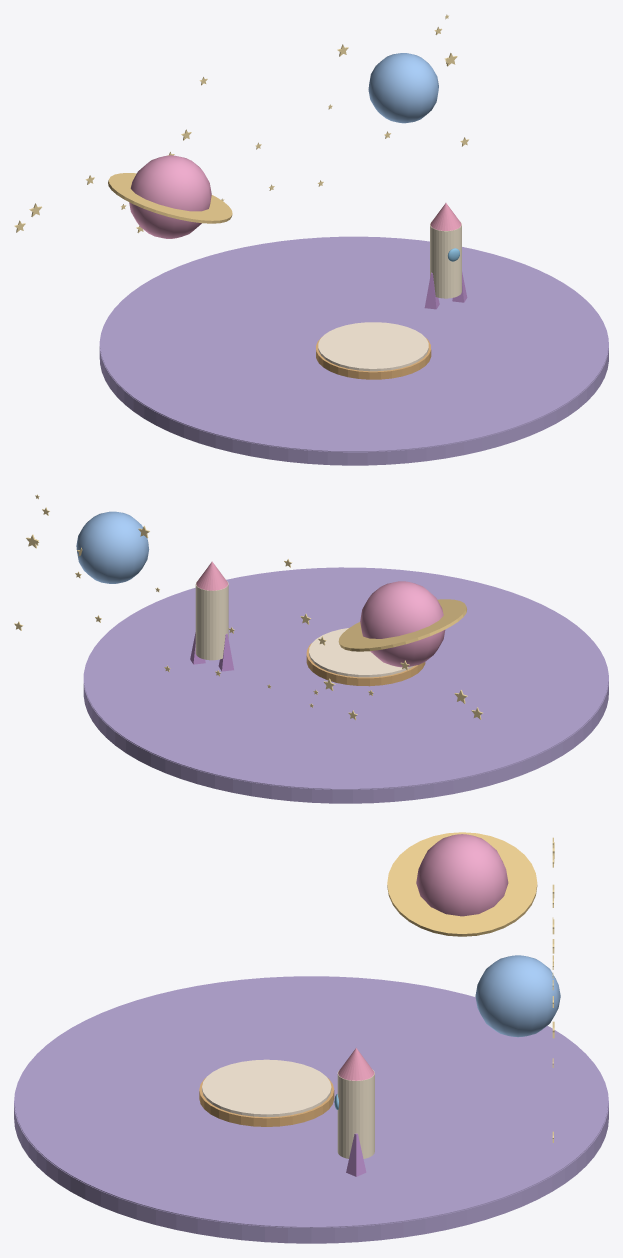
File: espaco.glb
The picture shows the model from 3 angles, top to bottom: view 1: azimuth 30°, elevation 25°; view 2: azimuth 150°, elevation 25°; view 3: azimuth 270°, elevation 25°; orthographic projection. The views are drawn at different scales.
Parts seen in each view (by area): view 1: Diorama piping.018, Diorama base.018, Ringed planet, Look pedestal.018, Blue planet, Rocket body, Saturn ring, Look pedestal trim.018; view 2: Diorama piping.018, Diorama base.018, Ringed planet, Blue planet, Look pedestal.018, Rocket body, Saturn ring, Look pedestal trim.018, Rocket nose; view 3: Diorama piping.018, Diorama base.018, Saturn ring, Look pedestal.018, Ringed planet, Blue planet, Rocket body, Look pedestal trim.018, Rocket nose.
Part boxes in pixels (left/top/right/bottom): Diorama piping.018: left=100, top=236, right=608, bottom=451; Diorama base.018: left=99, top=308, right=608, bottom=465; Ringed planet: left=129, top=155, right=211, bottom=238; Look pedestal.018: left=318, top=322, right=428, bottom=371; Blue planet: left=368, top=53, right=438, bottom=123; Rocket body: left=430, top=221, right=461, bottom=298; Saturn ring: left=108, top=173, right=232, bottom=223; Look pedestal trim.018: left=316, top=337, right=431, bottom=379; Diorama piping.018: left=84, top=567, right=608, bottom=789; Diorama base.018: left=83, top=643, right=608, bottom=803; Ringed planet: left=360, top=581, right=445, bottom=667; Blue planet: left=76, top=511, right=149, bottom=583; Look pedestal.018: left=309, top=628, right=414, bottom=677; Rocket body: left=195, top=581, right=228, bottom=660; Saturn ring: left=338, top=599, right=467, bottom=651; Look pedestal trim.018: left=306, top=643, right=425, bottom=686; Rocket nose: left=196, top=561, right=227, bottom=590; Diorama piping.018: left=14, top=976, right=608, bottom=1227; Diorama base.018: left=14, top=1062, right=608, bottom=1243; Saturn ring: left=387, top=832, right=537, bottom=936; Look pedestal.018: left=202, top=1059, right=331, bottom=1116; Ringed planet: left=416, top=834, right=508, bottom=916; Blue planet: left=475, top=955, right=560, bottom=1037; Rocket body: left=337, top=1069, right=374, bottom=1158; Look pedestal trim.018: left=199, top=1078, right=334, bottom=1126; Rocket nose: left=338, top=1048, right=374, bottom=1080.
Size of what is drawn, in the model's own units: 8.95 by 4.12 by 8.64.
